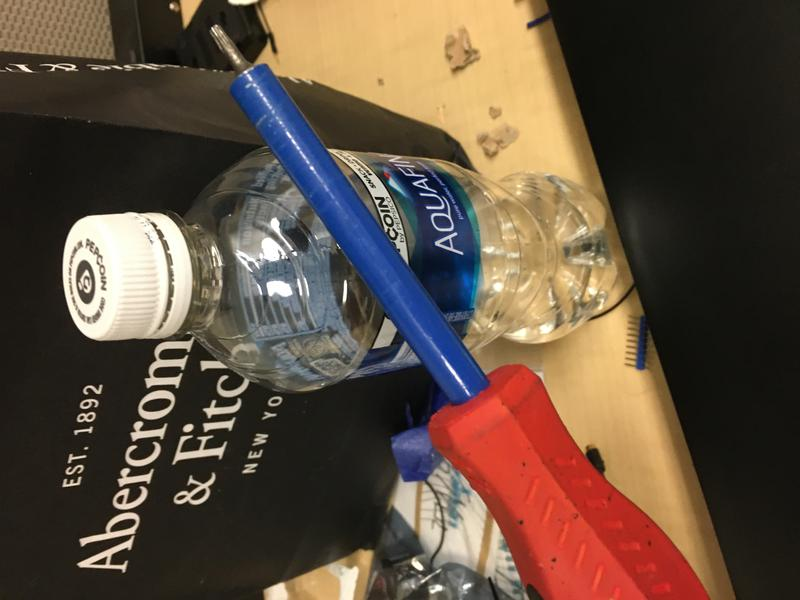bottle: (60, 144, 620, 395)
